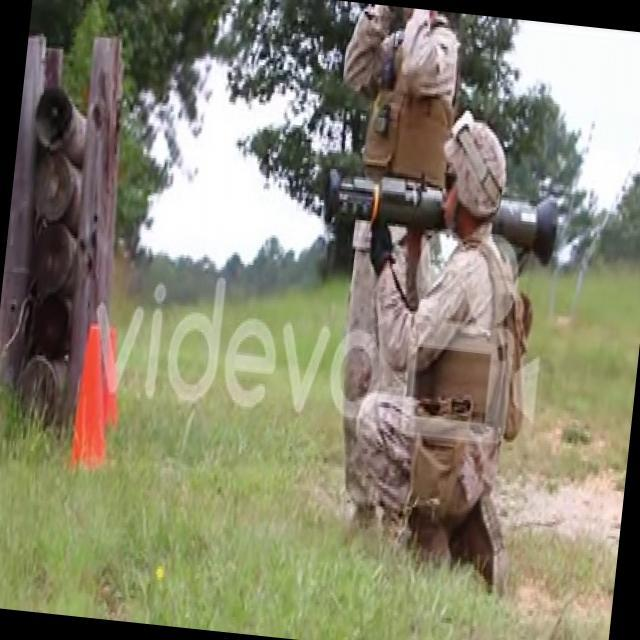rocket: (320, 169, 562, 263)
